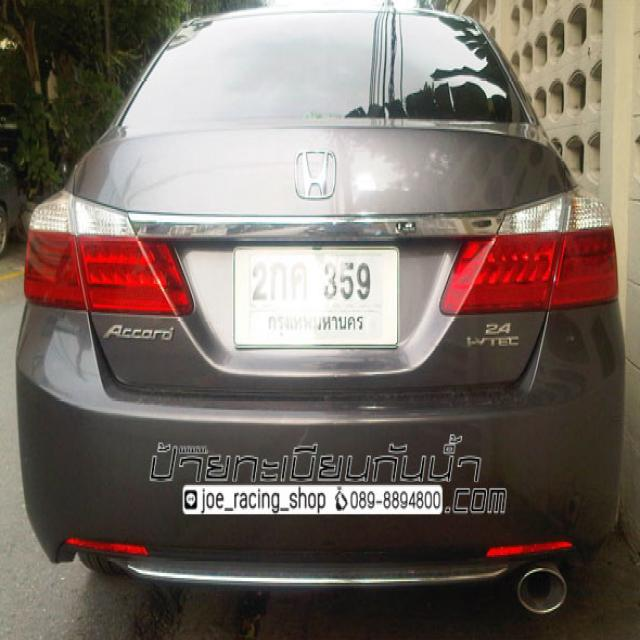license_plate: (228, 242, 404, 357)
